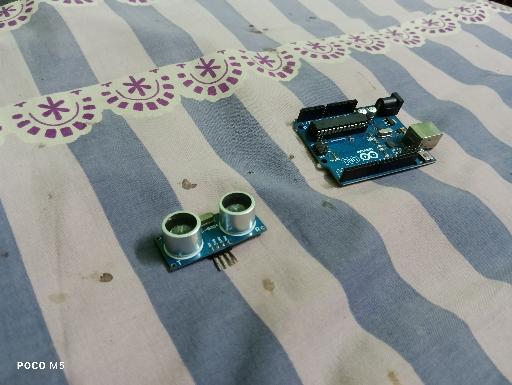Arduino: (292, 91, 444, 187)
sensor: (154, 190, 268, 273)
